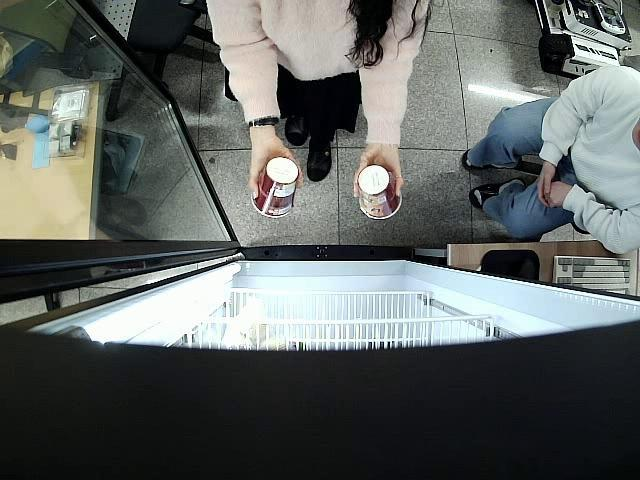06_nuguri_S: (253, 159, 300, 218), (358, 166, 402, 218)
